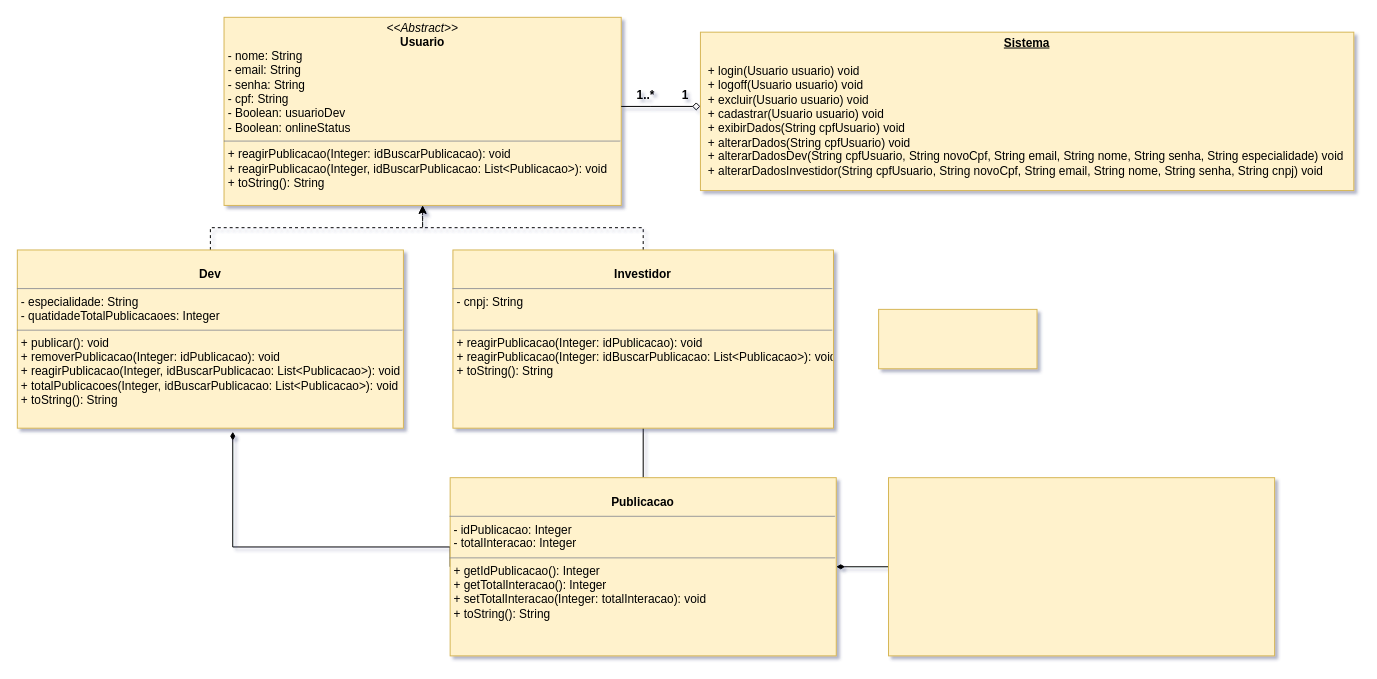
Some shapes in this 1377 by 679 pixel diagram are drawn without their labels. The shapes that lost their labels are listed below. From the top down, each one's box as (x1, y1, x2, y2) in pixels, then its label:
(878, 308, 1037, 369): App + main(args: String): void
(888, 477, 1275, 656): Interacao - idInteracao: Integer - nomeDeQuemInteragiu: String
